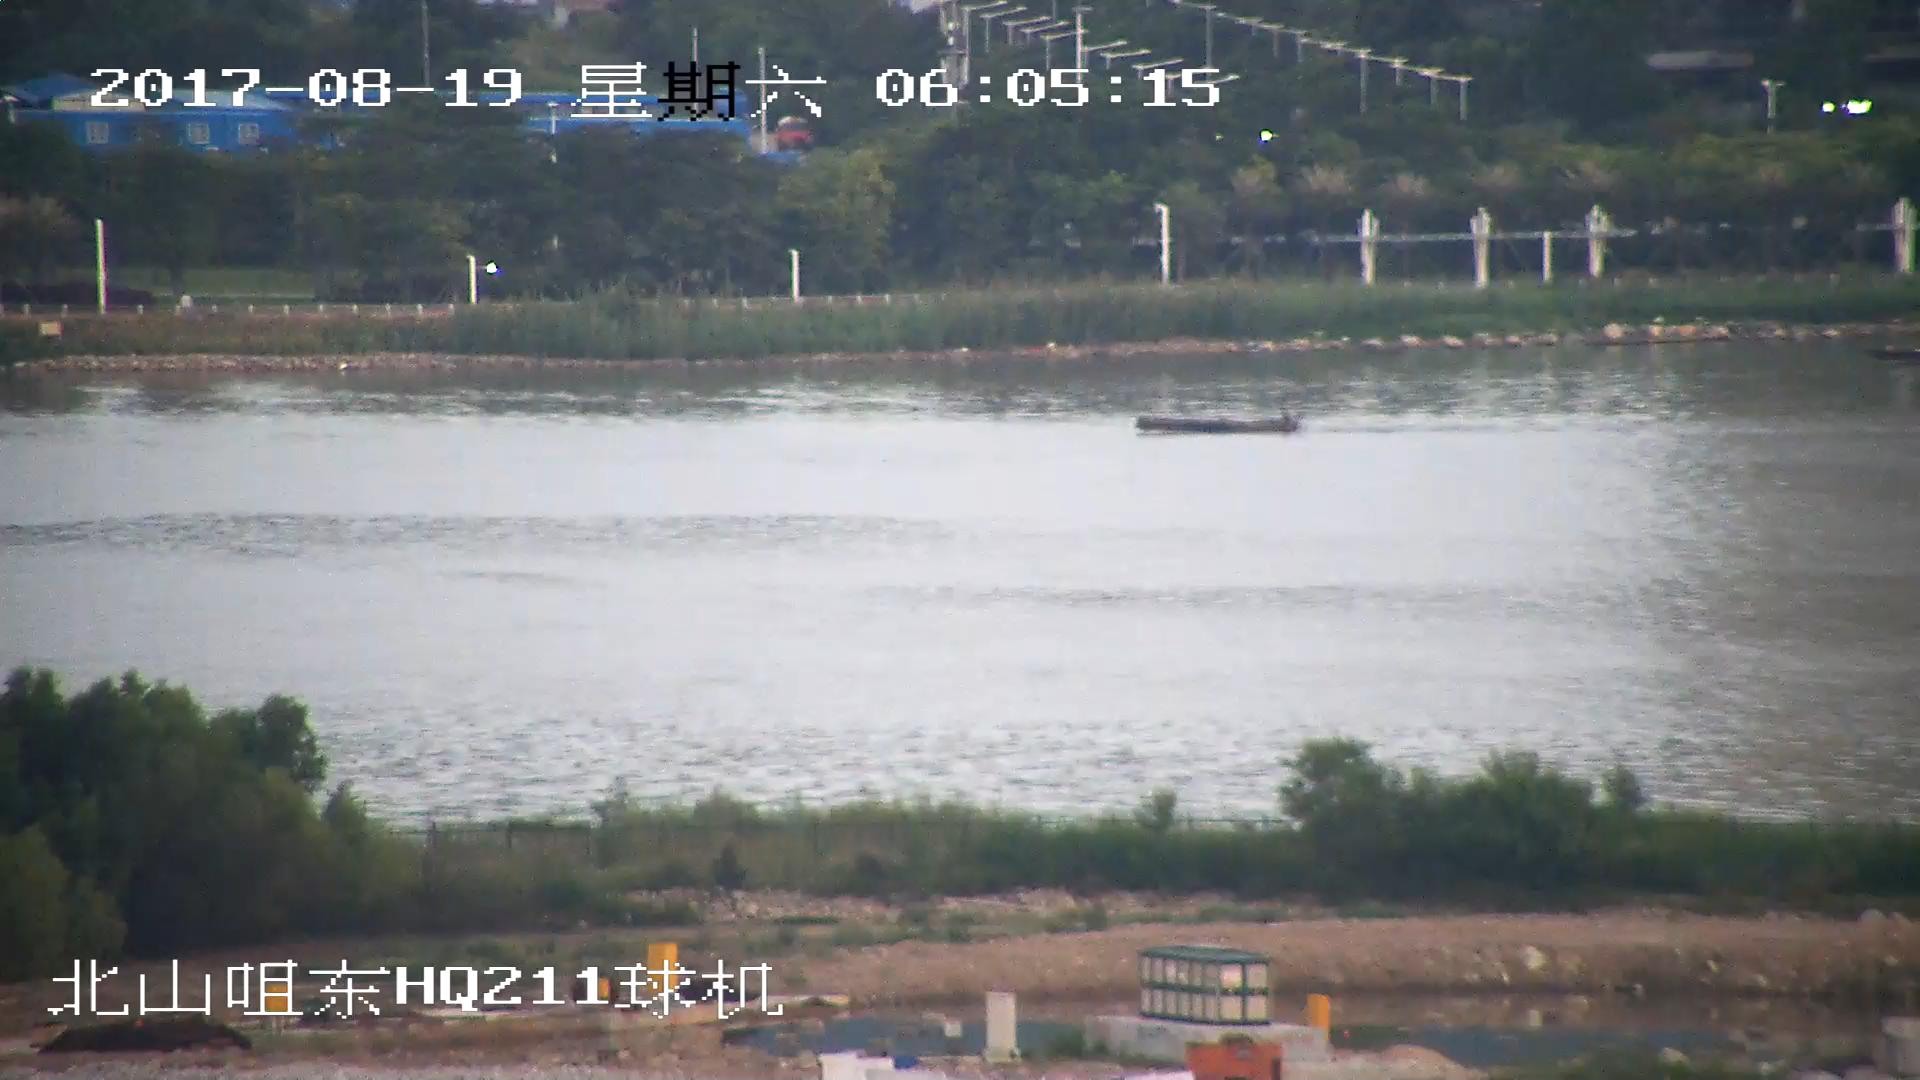fishing boat: (1135, 406, 1298, 438)
